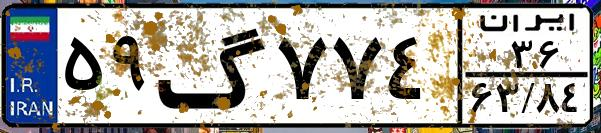3: (508, 27, 537, 80), (495, 70, 520, 125)
4: (385, 28, 445, 110), (560, 70, 590, 125)
5: (57, 26, 110, 100)
6: (537, 27, 568, 80), (470, 70, 495, 125)
7: (270, 28, 330, 110), (330, 28, 385, 110)
8: (535, 70, 560, 125)
9: (110, 28, 156, 98)
گ: (156, 12, 270, 120)
